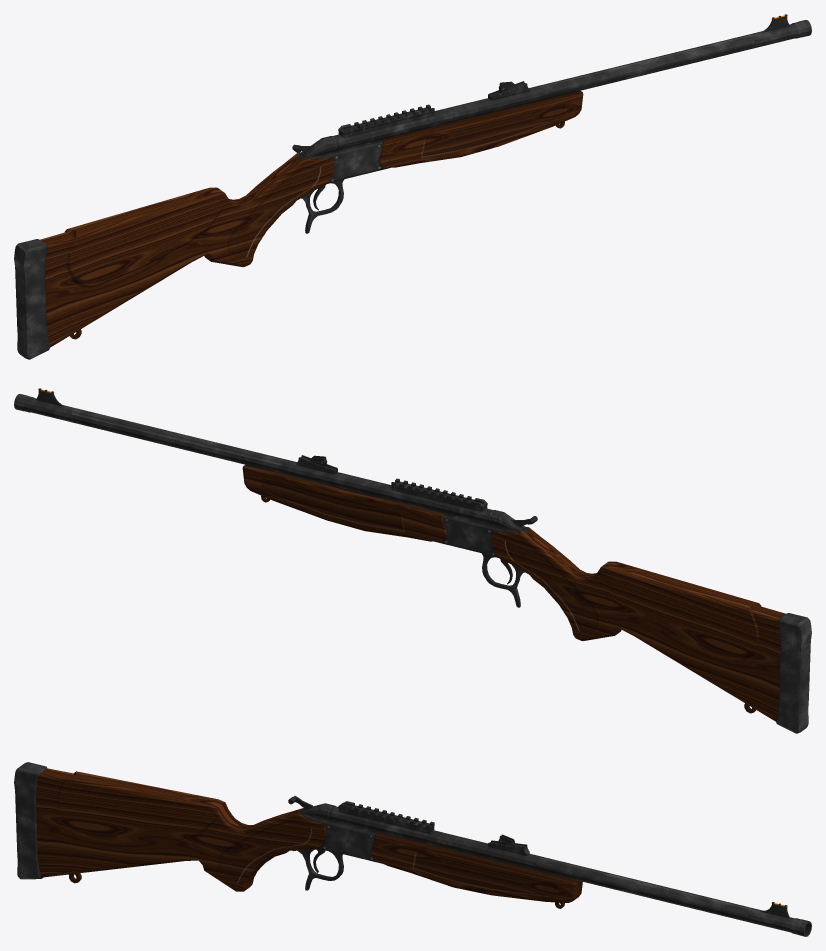
Rendered from BERGARA BA13 Shotgun.fbx.
3 views of the same model, one above another, from view 1: azimuth 30°, elevation 25°; view 2: azimuth 150°, elevation 25°; view 3: azimuth 330°, elevation 25° (orthographic).
Visible parts, largest first — view 1: Cube; view 2: Cube; view 3: Cube.
Boxes of the visible parts, <box> form: Cube: <box>14,14,811,359</box>; Cube: <box>14,388,811,733</box>; Cube: <box>14,762,811,936</box>.
Bounding box in the file's own units: 143 × 27.32 × 3.36.
